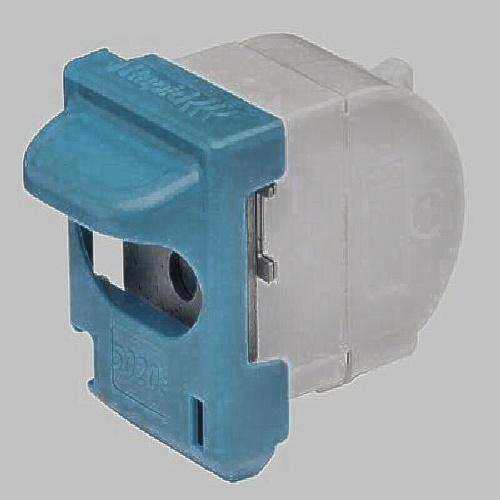stapler: (48, 36, 461, 451)
